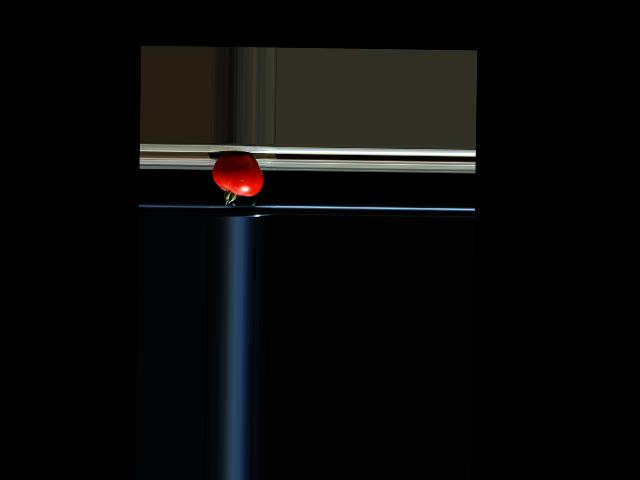tomato: (211, 152, 263, 205)
